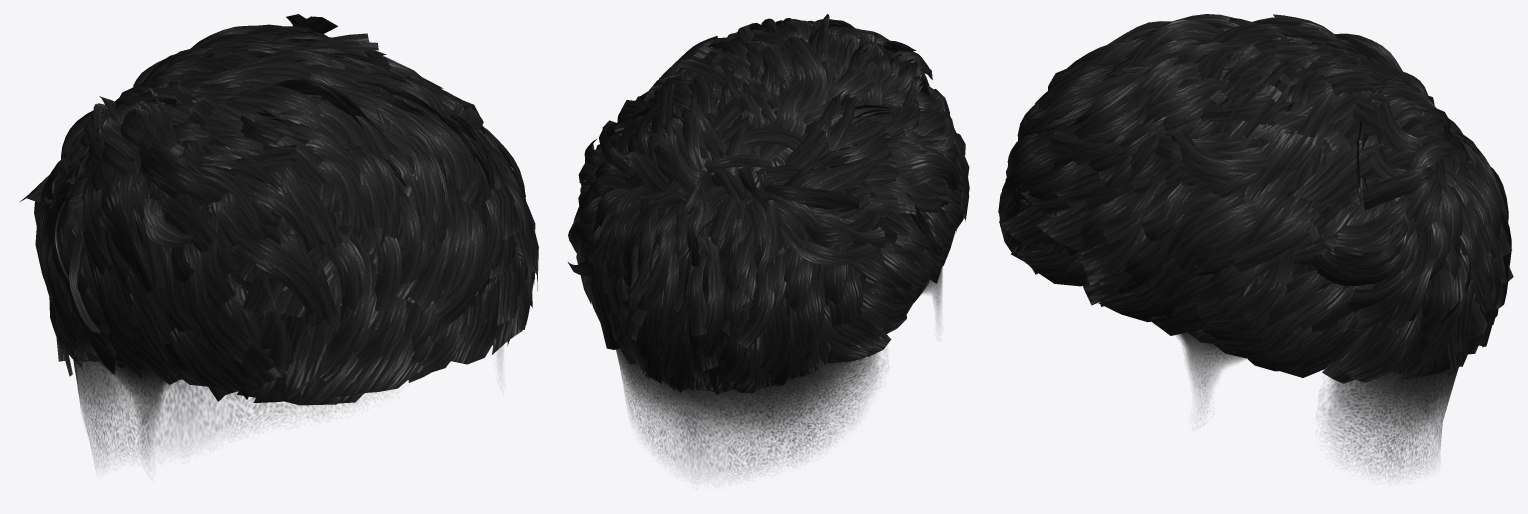
Rendered from diamond_straight_01 Fringe.glb.
The picture shows the model from 3 angles, left to right: view 1: azimuth 30°, elevation 25°; view 2: azimuth 150°, elevation 25°; view 3: azimuth 270°, elevation 25°; orthographic projection. The views are drawn at different scales.
Visible parts, largest first — view 1: basemesh22.006, Scalp.025; view 2: basemesh22.006, Scalp.025; view 3: basemesh22.006, Scalp.025.
Part boxes in pixels (bbox=[...]): basemesh22.006: bbox=[19, 14, 538, 405]; Scalp.025: bbox=[73, 53, 502, 466]; basemesh22.006: bbox=[568, 14, 969, 394]; Scalp.025: bbox=[616, 103, 942, 477]; basemesh22.006: bbox=[998, 14, 1513, 383]; Scalp.025: bbox=[1155, 112, 1458, 477].
Size of the model in its own units: 0.2023 by 0.2365 by 0.2463.
2 materials, 2 textured.
